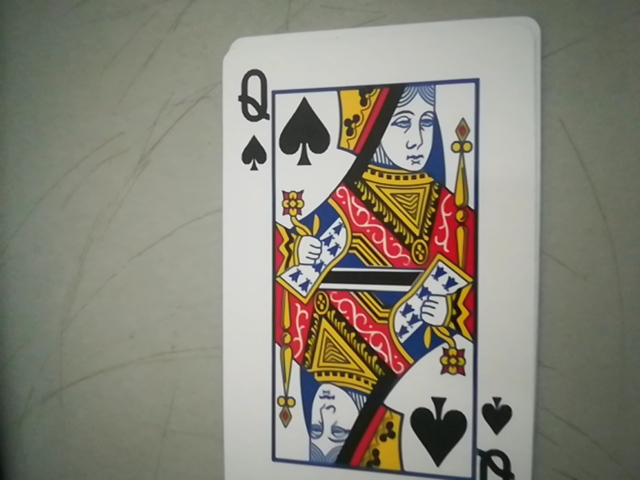ht q: (224, 52, 280, 175)
